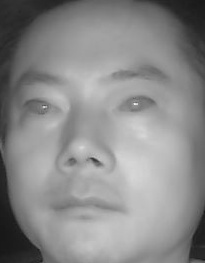eye: (115, 93, 159, 117), (22, 95, 61, 120)
mouth: (49, 183, 127, 229)
